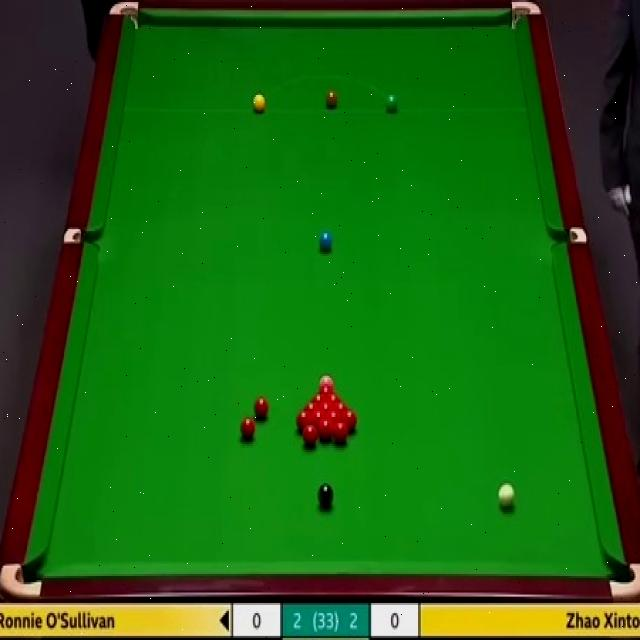black-ball: (316, 482, 333, 507)
blue-ball: (319, 232, 333, 250)
brown-ball: (325, 92, 338, 108)
green-ball: (384, 91, 399, 114)
pink-ball: (319, 376, 334, 390)
red-ball: (300, 423, 318, 447), (252, 395, 268, 420), (318, 418, 334, 441), (332, 422, 348, 445), (340, 409, 355, 431), (239, 419, 256, 438), (296, 410, 310, 432), (327, 411, 341, 432), (305, 401, 317, 414), (321, 402, 331, 416), (320, 387, 330, 399)
white-ball: (498, 483, 514, 508)
yellow-ball: (253, 93, 265, 114)
